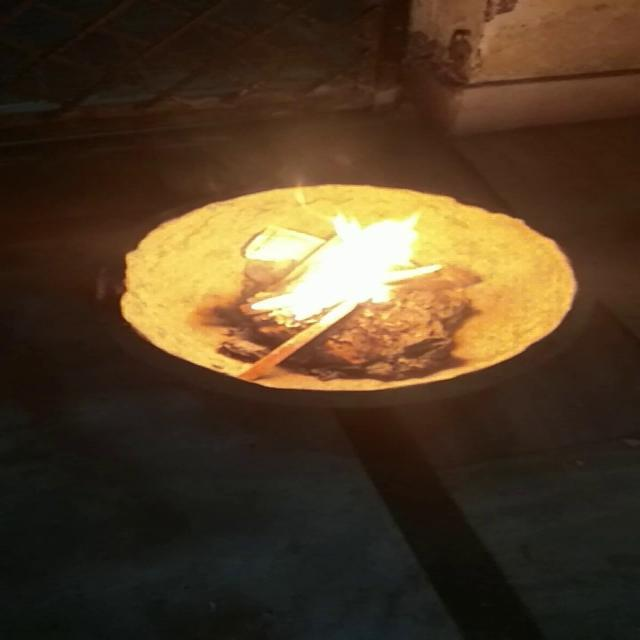Fire: (230, 192, 436, 333)
